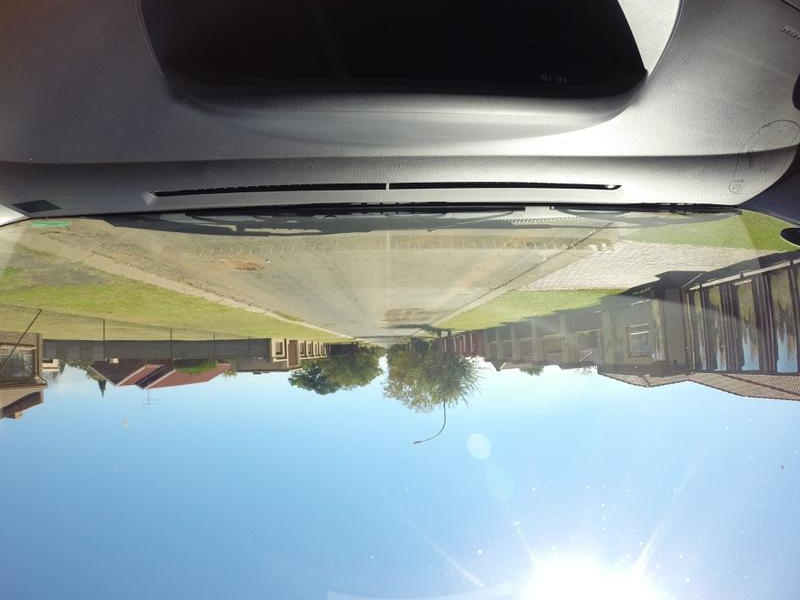pothole: (210, 250, 267, 278)
